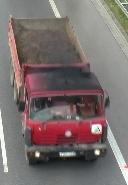Truck: (8, 17, 110, 163)
